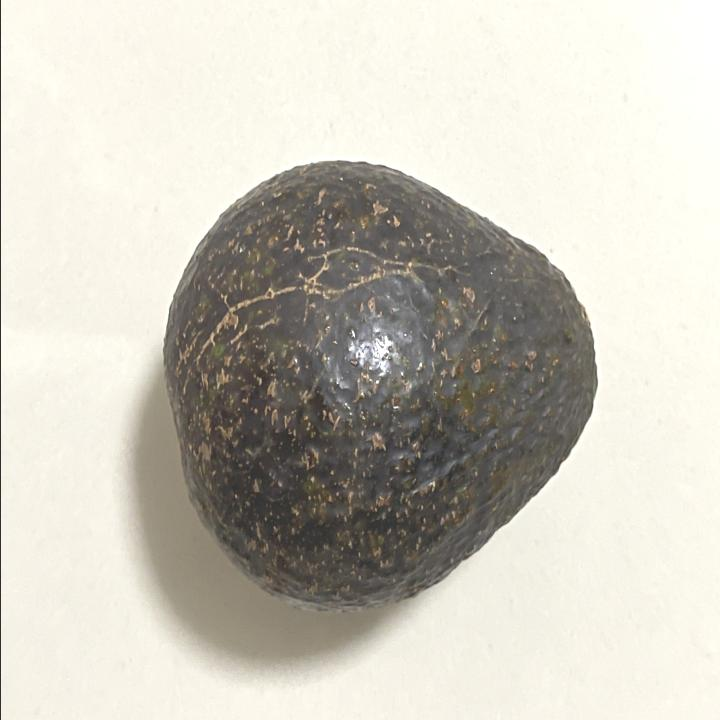Level2: (158, 150, 602, 620)
